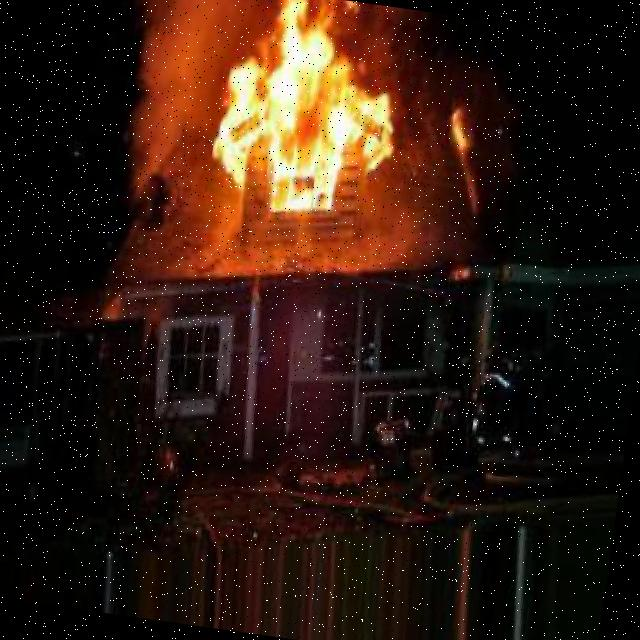fire: (169, 0, 469, 288)
